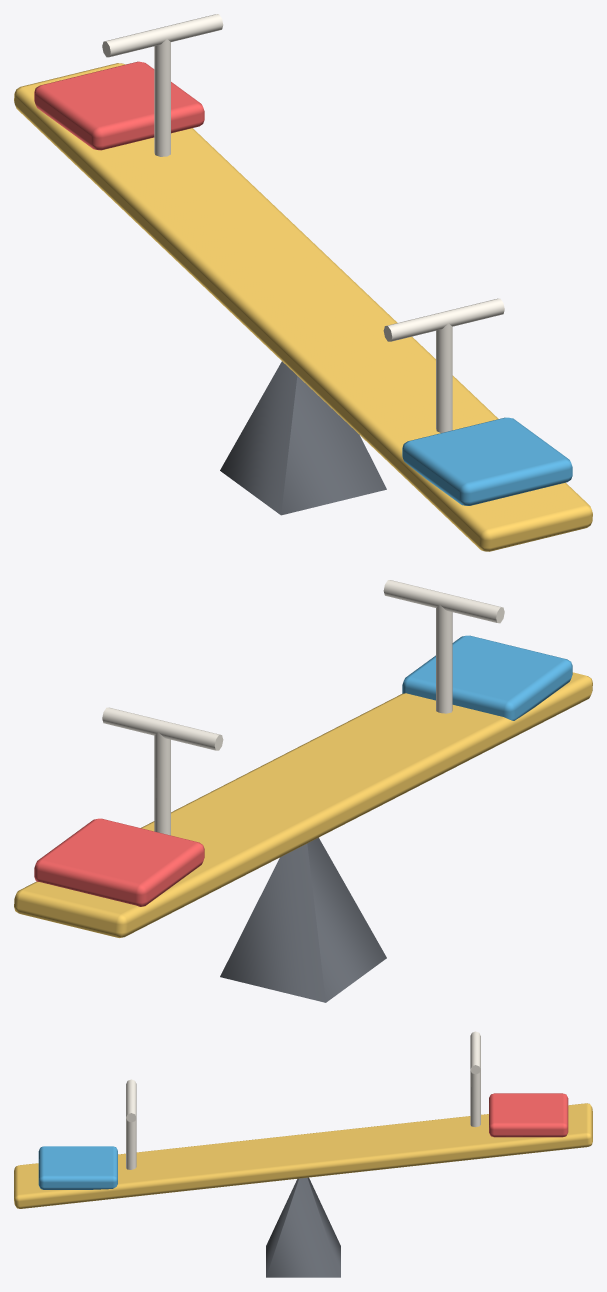
The model's file is kmerry-seesaw.glb.
3 renders of one model, top to bottom at view 1: azimuth 30°, elevation 25°; view 2: azimuth 150°, elevation 25°; view 3: azimuth 270°, elevation 25°, orthographic. The views are drawn at different scales.
Bounding box in the file's own units: 0.3 × 0.89 × 2.19.
